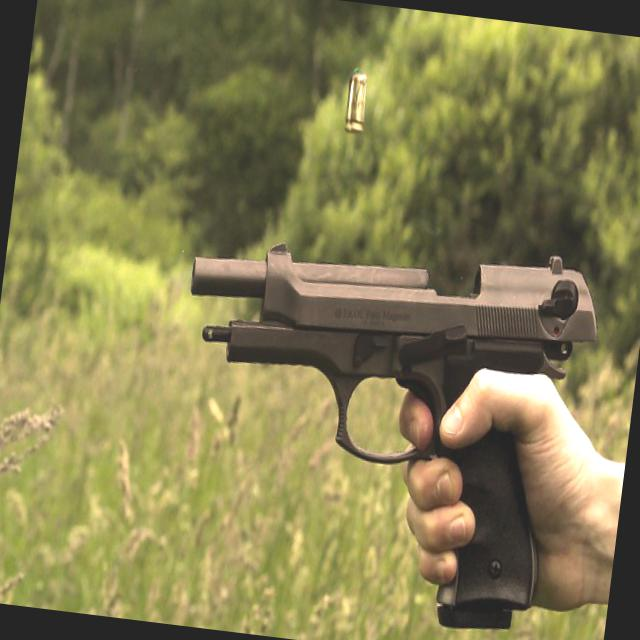handgun: (150, 210, 608, 639)
